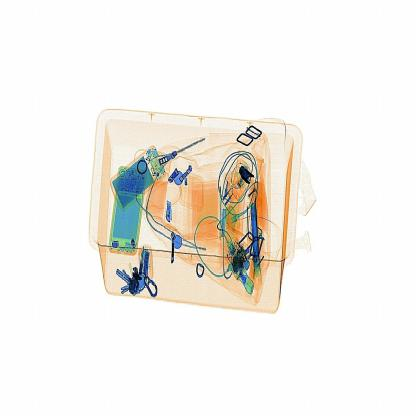pliers: (235, 161, 264, 196)
